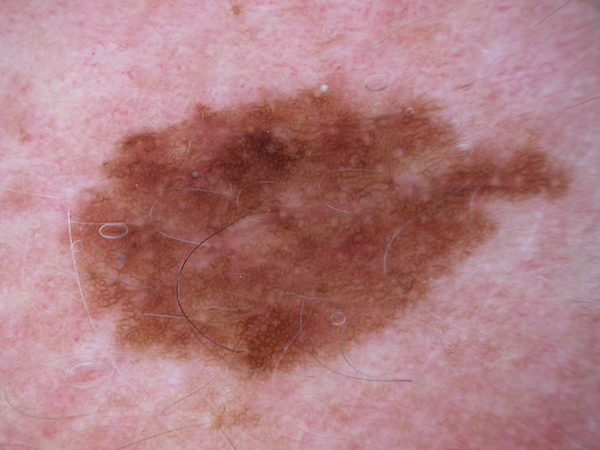Detected Lesion: (72, 87, 572, 381)
